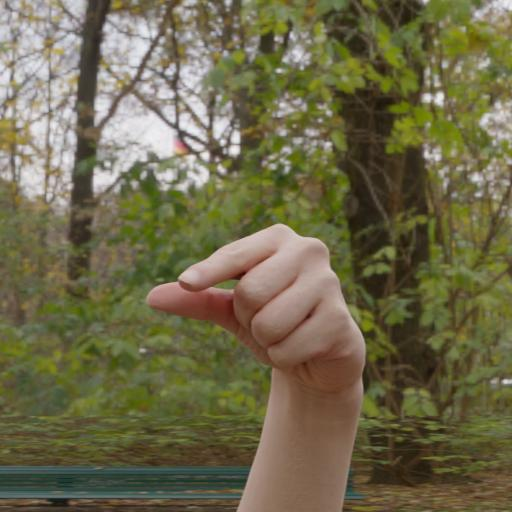G: (130, 207, 375, 512)
